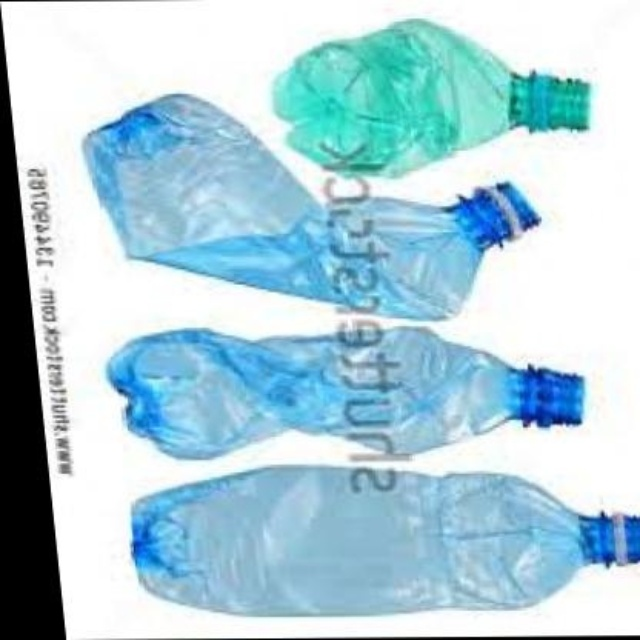trash: (83, 94, 538, 318), (132, 466, 582, 614), (108, 320, 582, 457), (274, 18, 588, 174)
